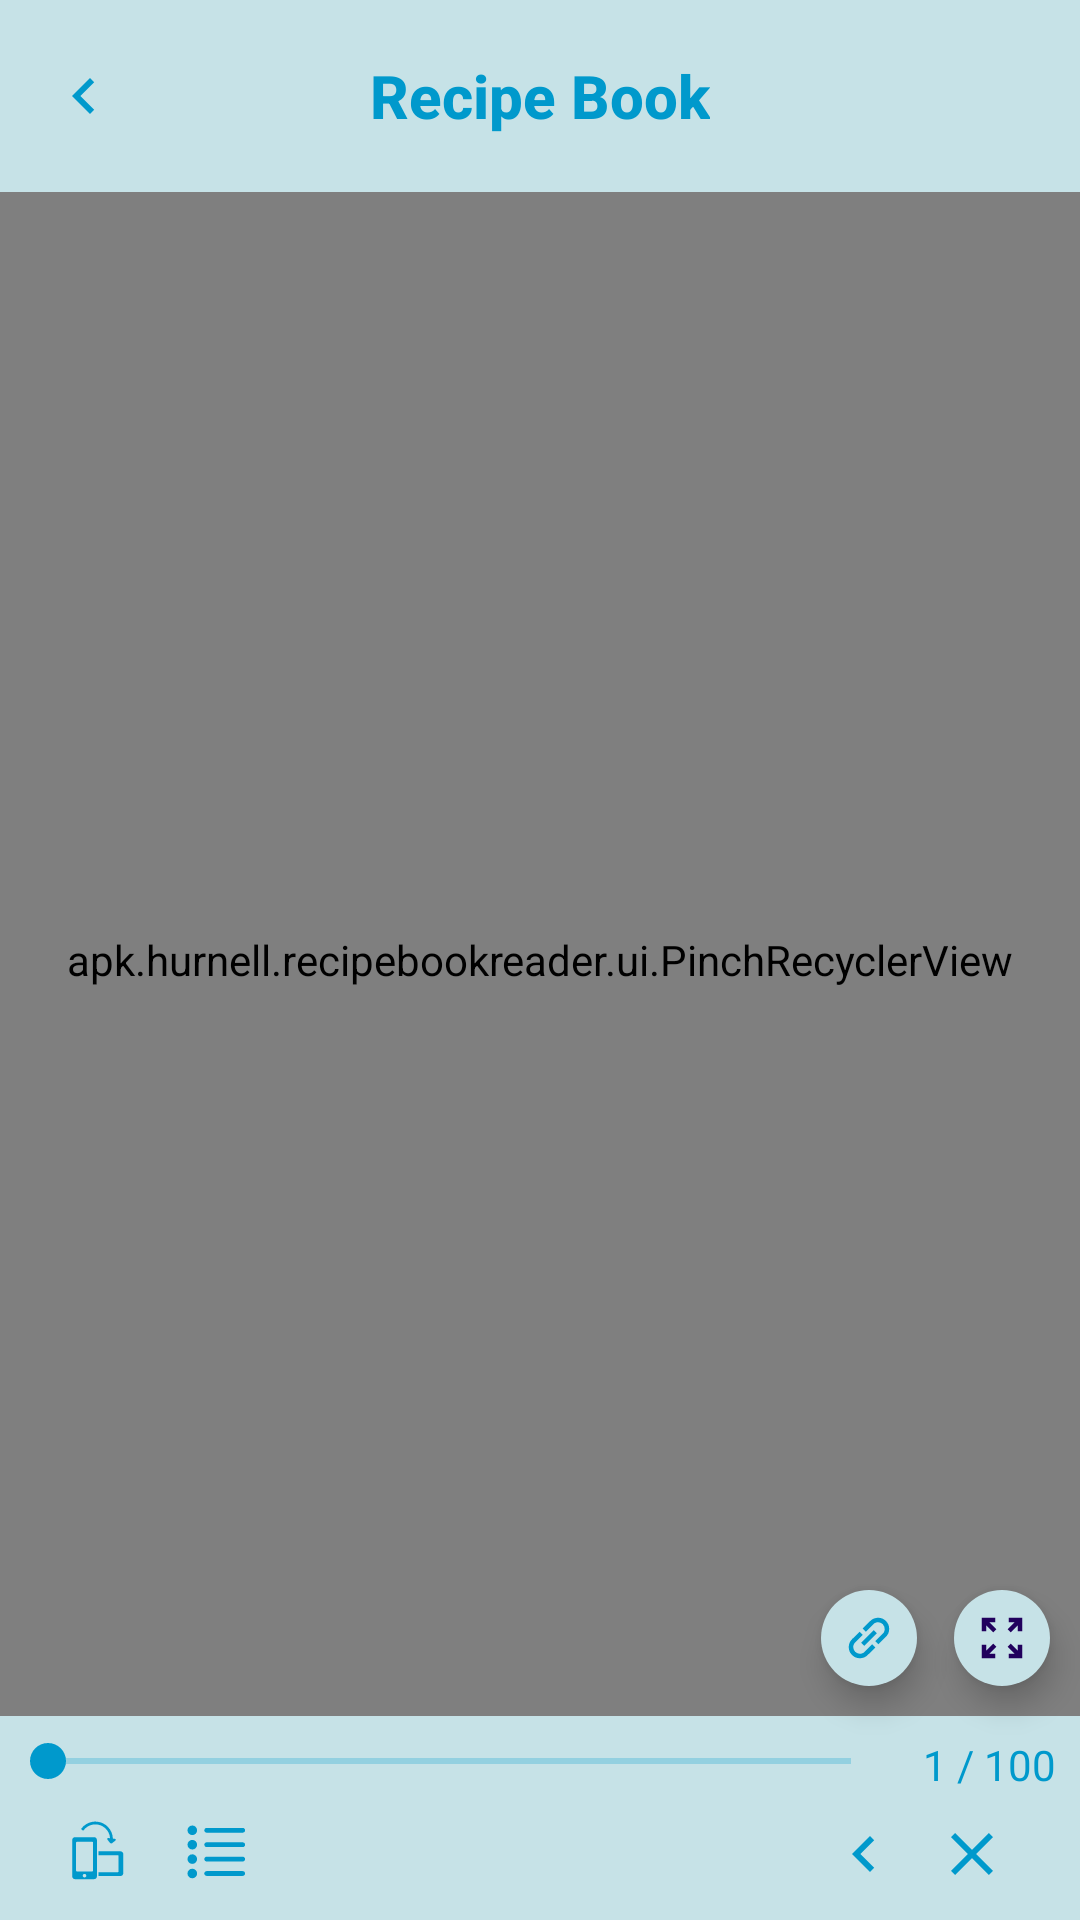

Point at icon controls on the screen. Image size 1080*1920, points as (x=x, y=y).
Go back in history: (x=863, y=1854)
link on: (x=869, y=1638)
switch between portrait and landscape: (x=98, y=1850)
toc: (x=216, y=1852)
Zoom Button: (x=1002, y=1638)
